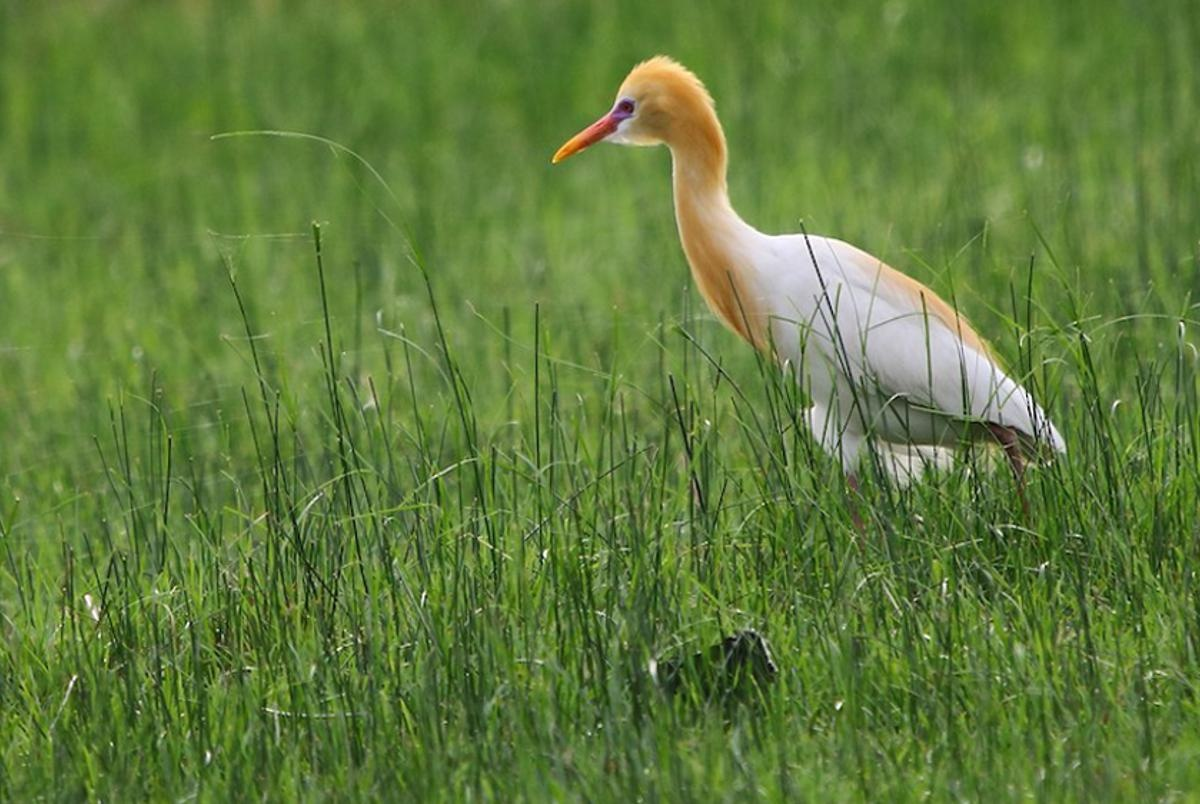egret: (544, 47, 1078, 531)
